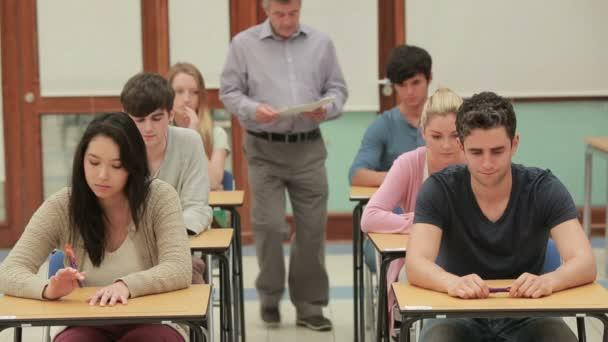invigilator: (230, 2, 342, 332)
student: (388, 85, 596, 313), (23, 108, 209, 316), (125, 59, 209, 248), (368, 40, 446, 137)
